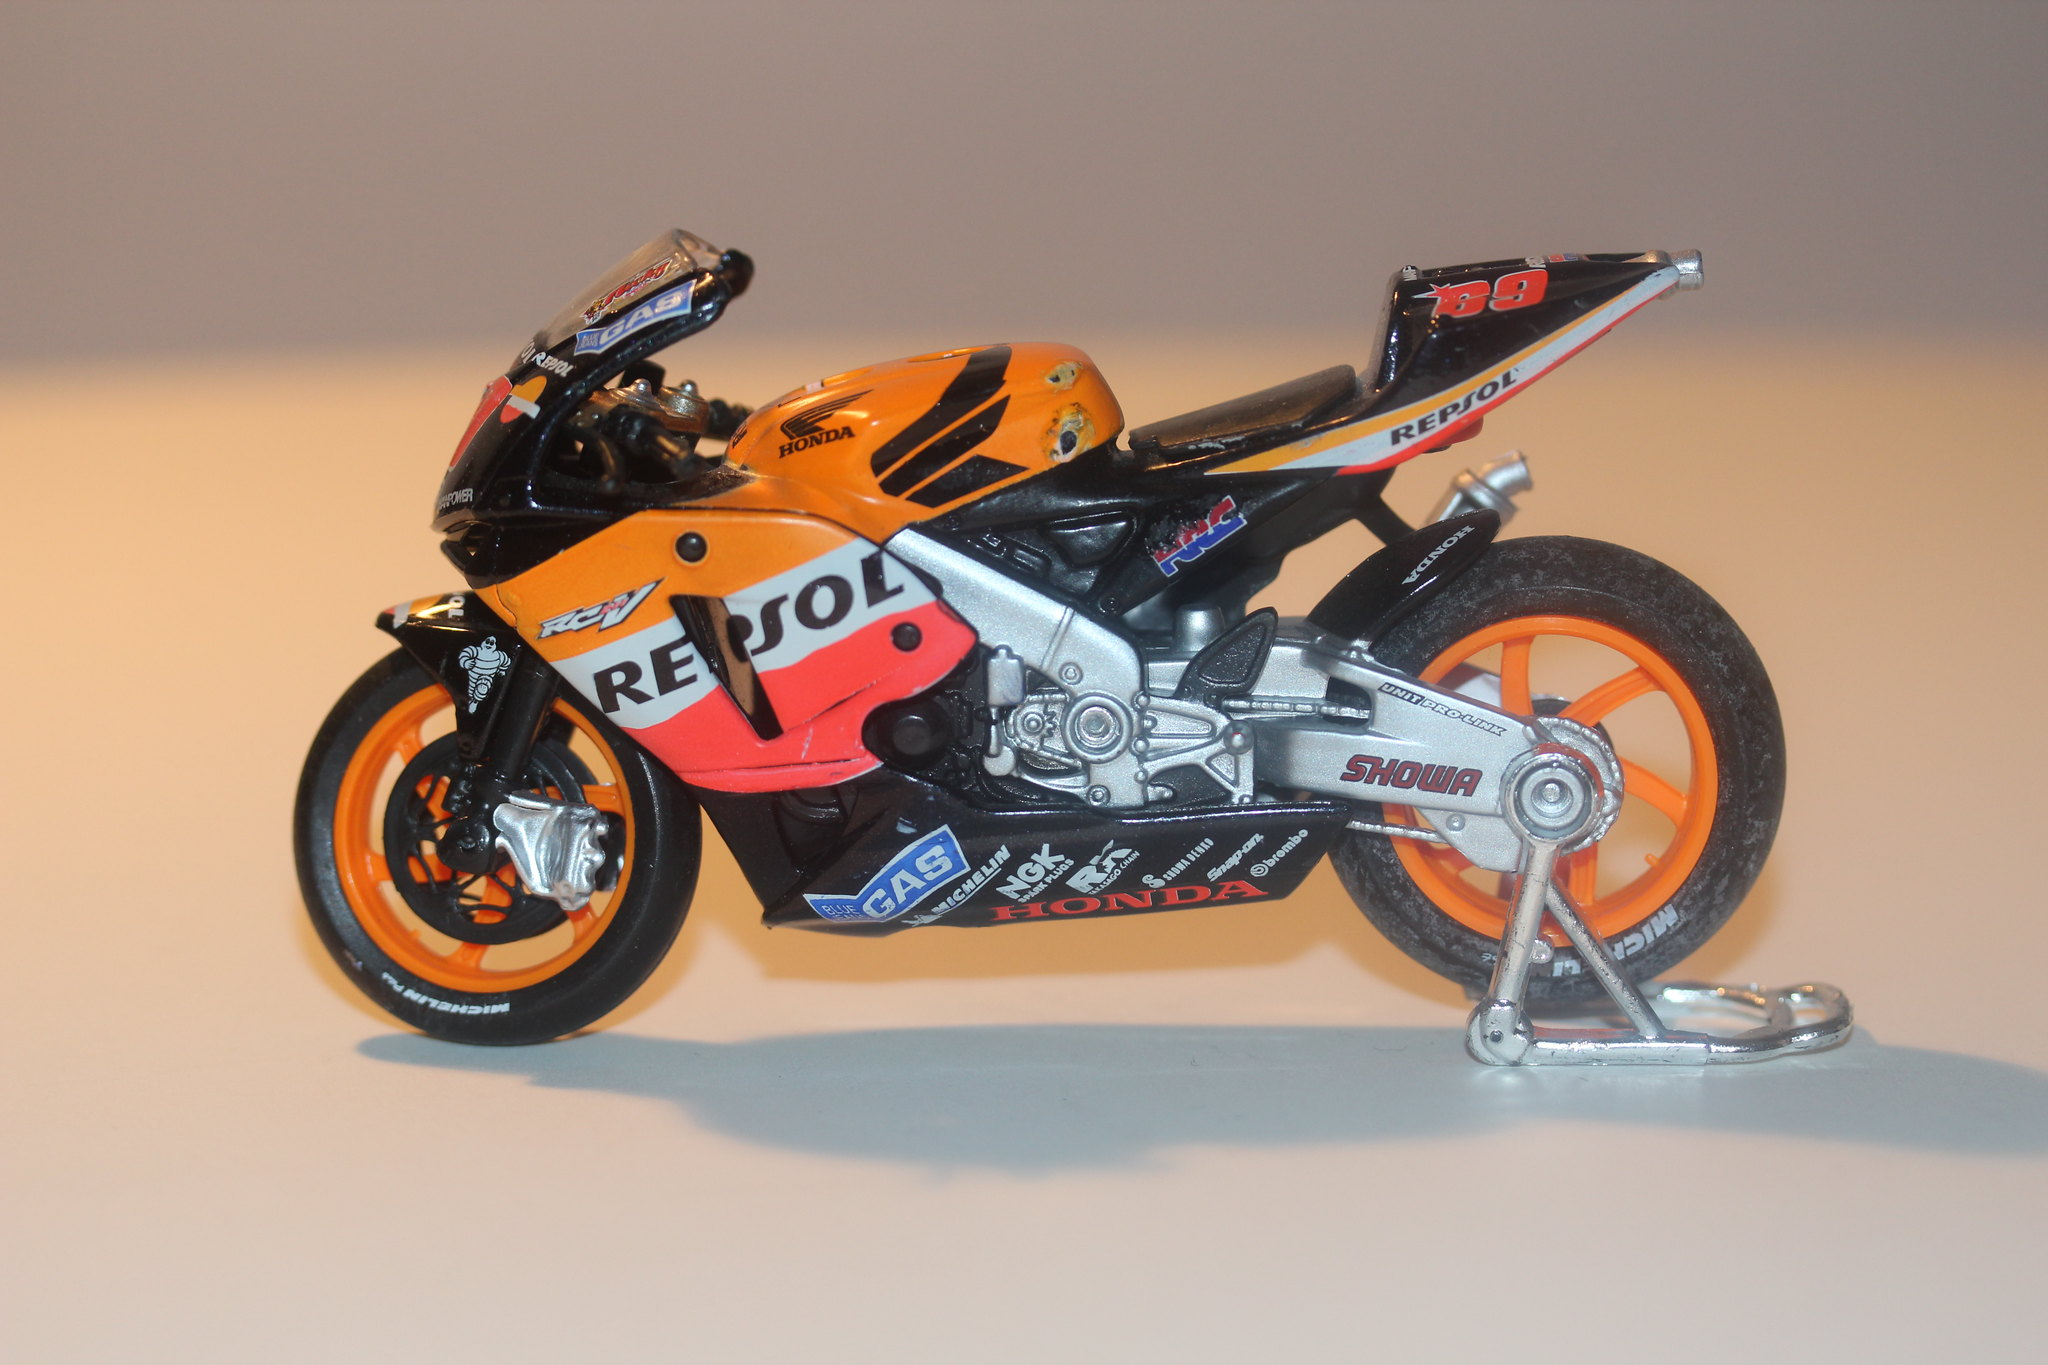motor bike: (285, 212, 1810, 1063)
